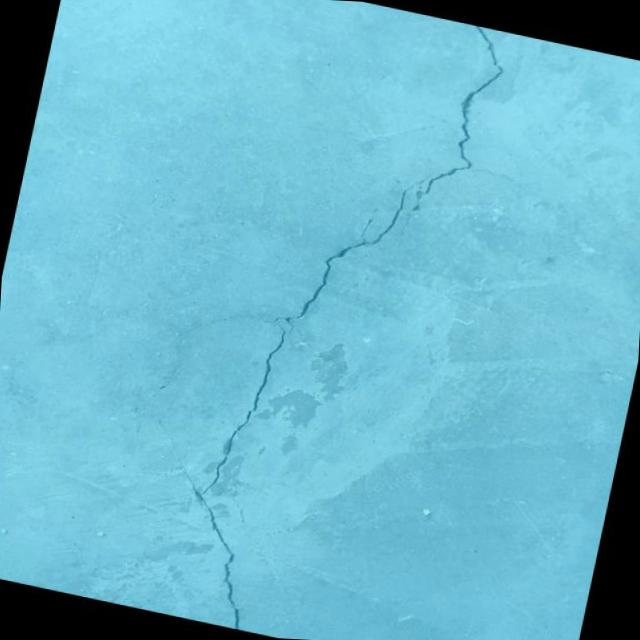crack: (118, 0, 513, 640), (134, 355, 183, 414), (470, 166, 526, 188), (136, 422, 142, 433)
